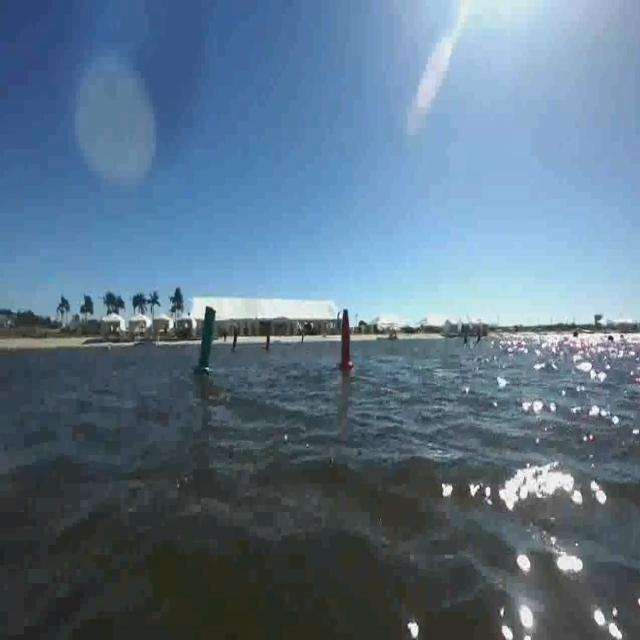green-column-buoy: (195, 305, 219, 376)
red-column-buoy: (338, 309, 355, 371), (266, 330, 274, 353)
